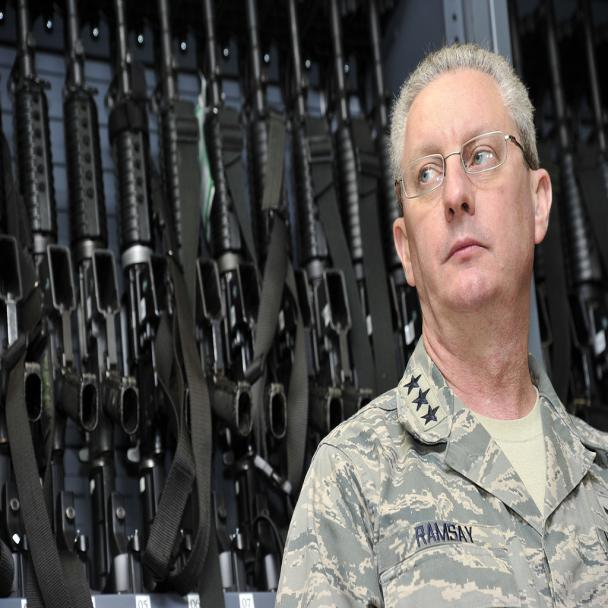Gun: (48, 1, 114, 607), (97, 0, 158, 607), (148, 0, 206, 607), (0, 0, 58, 607), (272, 0, 329, 607), (235, 0, 282, 607), (191, 0, 238, 582), (543, 7, 608, 397), (314, 0, 368, 441)
